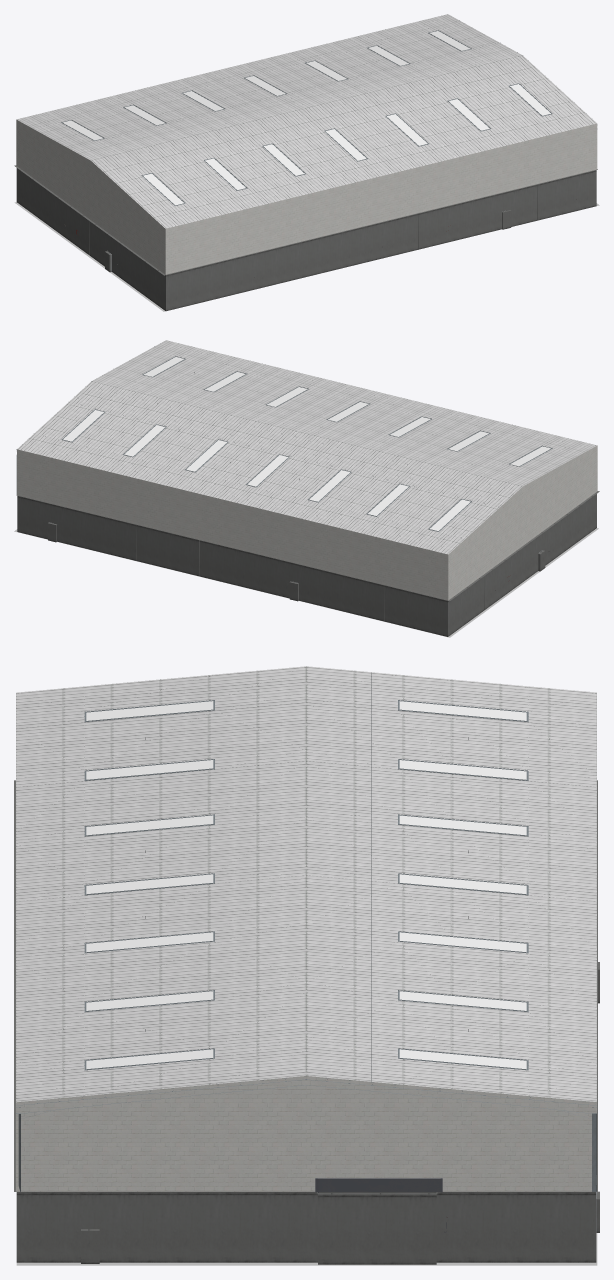
The model's file is Factoryio.FBX.
3 renders of one model, top to bottom at view 1: azimuth 30°, elevation 25°; view 2: azimuth 150°, elevation 25°; view 3: azimuth 270°, elevation 25°, orthographic. The views are drawn at different scales.
Parts seen in each view (by area): view 1: Factoryio_03_A, Factoryio_01_A, Factoryio_02_A, Factoryio_08, Factoryio_06, Factoryio_04; view 2: Factoryio_03_A, Factoryio_01_A, Factoryio_02_A, Factoryio_08, Factoryio_06, Factoryio_04; view 3: Factoryio_03_A, Factoryio_01_A, Factoryio_02_A, Factoryio_08, Factoryio_06, Factoryio_04, Factoryio_11.
Part boxes in pixels (x1=…): Factoryio_03_A: x1=16, y1=14, x2=596, y2=228; Factoryio_01_A: x1=16, y1=119, x2=597, y2=274; Factoryio_02_A: x1=14, y1=165, x2=597, y2=311; Factoryio_08: x1=62, y1=31, x2=550, y2=205; Factoryio_06: x1=61, y1=30, x2=552, y2=205; Factoryio_04: x1=14, y1=202, x2=599, y2=311; Factoryio_03_A: x1=17, y1=340, x2=596, y2=554; Factoryio_01_A: x1=17, y1=445, x2=597, y2=600; Factoryio_02_A: x1=16, y1=491, x2=599, y2=636; Factoryio_08: x1=63, y1=357, x2=550, y2=531; Factoryio_06: x1=61, y1=356, x2=552, y2=531; Factoryio_04: x1=14, y1=528, x2=598, y2=637; Factoryio_03_A: x1=16, y1=666, x2=596, y2=1102; Factoryio_01_A: x1=16, y1=1076, x2=596, y2=1191; Factoryio_02_A: x1=14, y1=780, x2=599, y2=1264; Factoryio_08: x1=86, y1=701, x2=526, y2=1069; Factoryio_06: x1=16, y1=700, x2=596, y2=1118; Factoryio_04: x1=16, y1=1233, x2=597, y2=1265; Factoryio_11: x1=315, y1=1178, x2=447, y2=1232.
Bounding box in the file's own units: 60.52 × 12.77 × 36.19.
